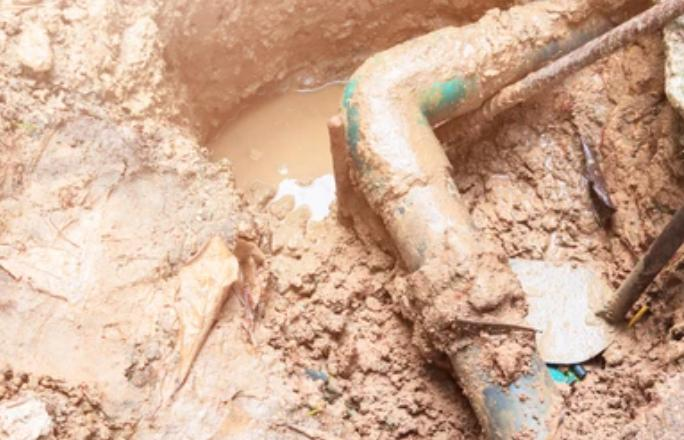water accumulation: (198, 78, 350, 221)
